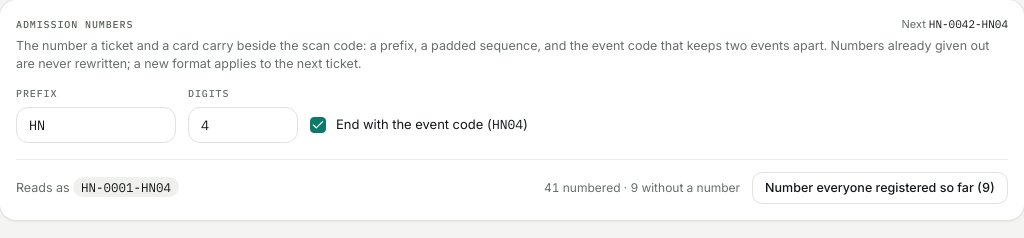
Test: numbering everyone registered so far › numbers those without a number, says which range they got, and reads the counts again
Click the button "Number everyone registered so far (9)" at coordinates (880, 188), box [752,172,1008,204]
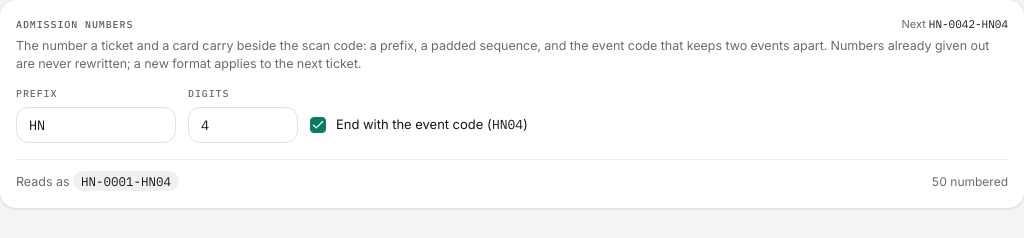
Result: the text "50 numbered" is shown at [932,173,1008,191]
Result: the button "Number everyone" is gone
